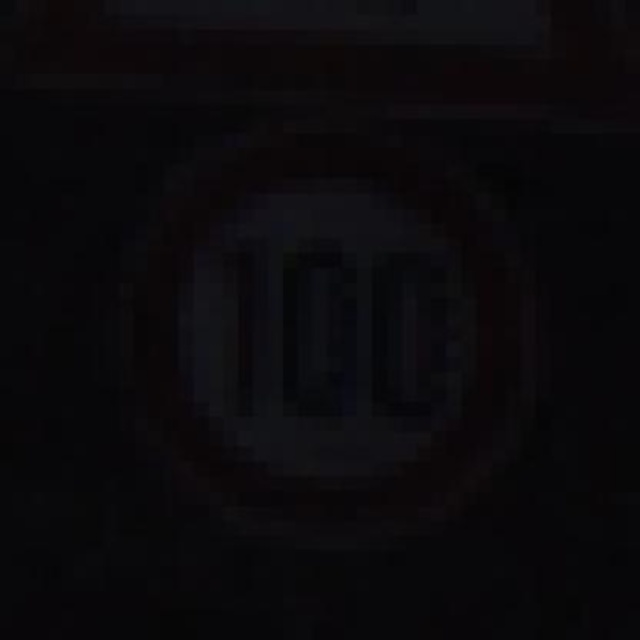Tốc độ tối đa cho phép 100km/h: (121, 128, 536, 552)
